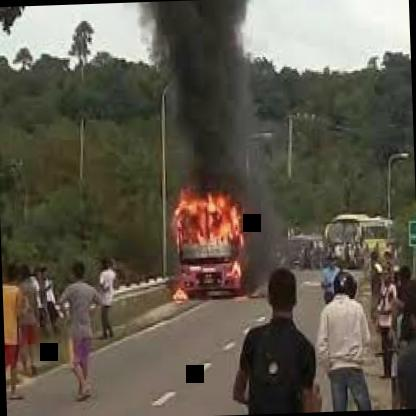fire: (169, 173, 265, 308)
